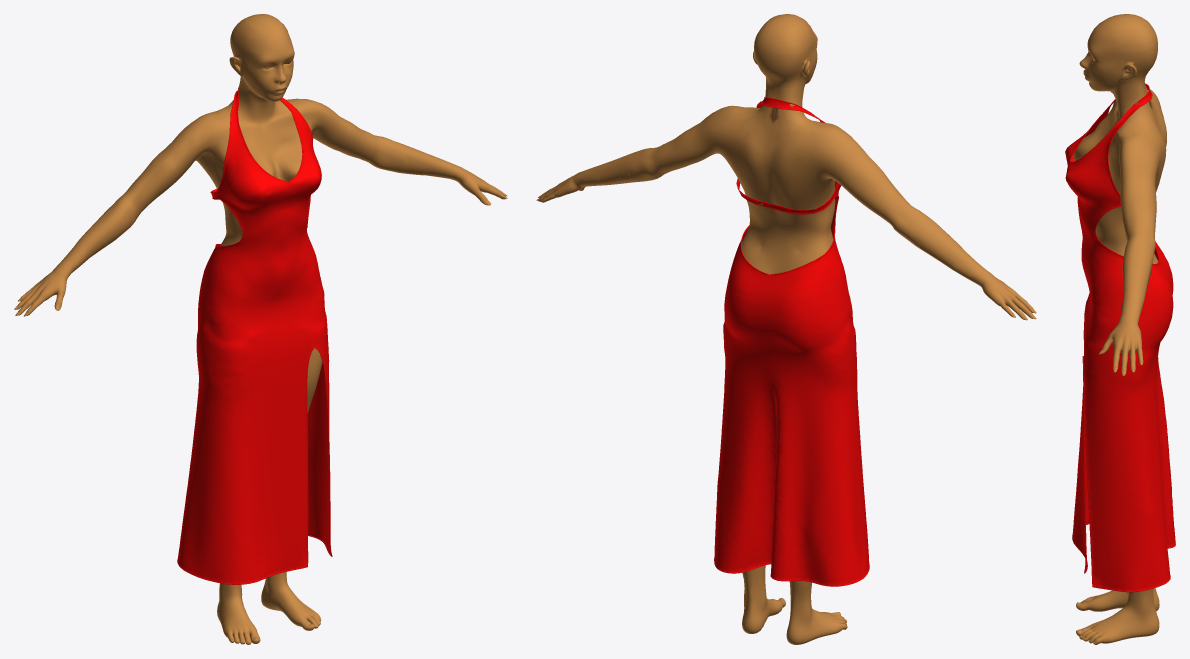
File: dress3.glb
The picture shows the model from 3 angles, left to right: view 1: azimuth 30°, elevation 25°; view 2: azimuth 150°, elevation 25°; view 3: azimuth 270°, elevation 25°; orthographic projection.
Parts seen in each view (by area): view 1: EveningDress, Body; view 2: EveningDress, Body; view 3: EveningDress, Body.
Boxes of the visible parts, left/top/right/bottom form: EveningDress: left=177, top=87, right=332, bottom=584; Body: left=16, top=14, right=506, bottom=644; EveningDress: left=714, top=97, right=869, bottom=586; Body: left=538, top=14, right=1033, bottom=644; EveningDress: left=1065, top=83, right=1175, bottom=592; Body: left=1073, top=14, right=1166, bottom=644.
Bounding box in the file's own units: 1.58 × 1.85 × 0.306.
